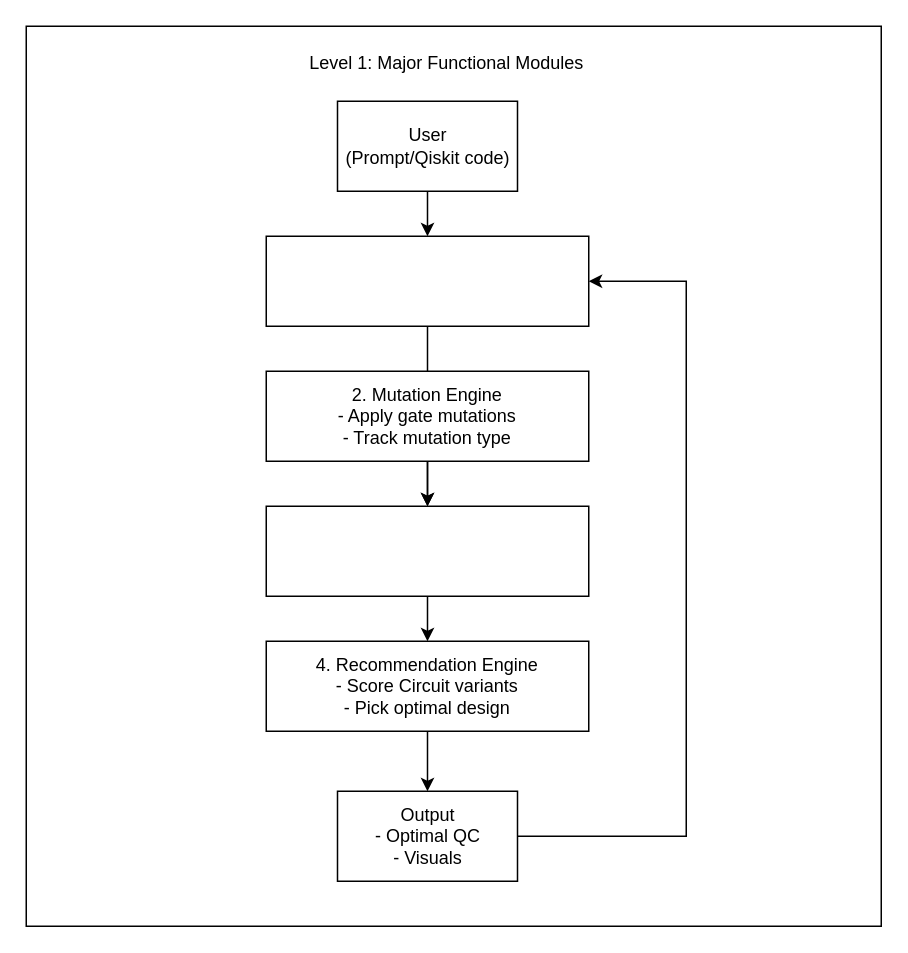
Image size: 908x953. Some labels were removed from this diagram. Each missing label, with the centre of its shape:
"1. Input Processing - Accept Qiskit Code - or prompt (DeepSeek)" belongs at (427,280).
"3. Simulator & Analyzer - Simulate fidelity - Get circuit stats" belongs at (427,550).
